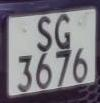3: (14, 50, 36, 96)
6: (34, 52, 56, 92), (72, 47, 91, 86)
7: (54, 47, 73, 91)
G: (52, 12, 74, 49)
S: (33, 13, 55, 56)
